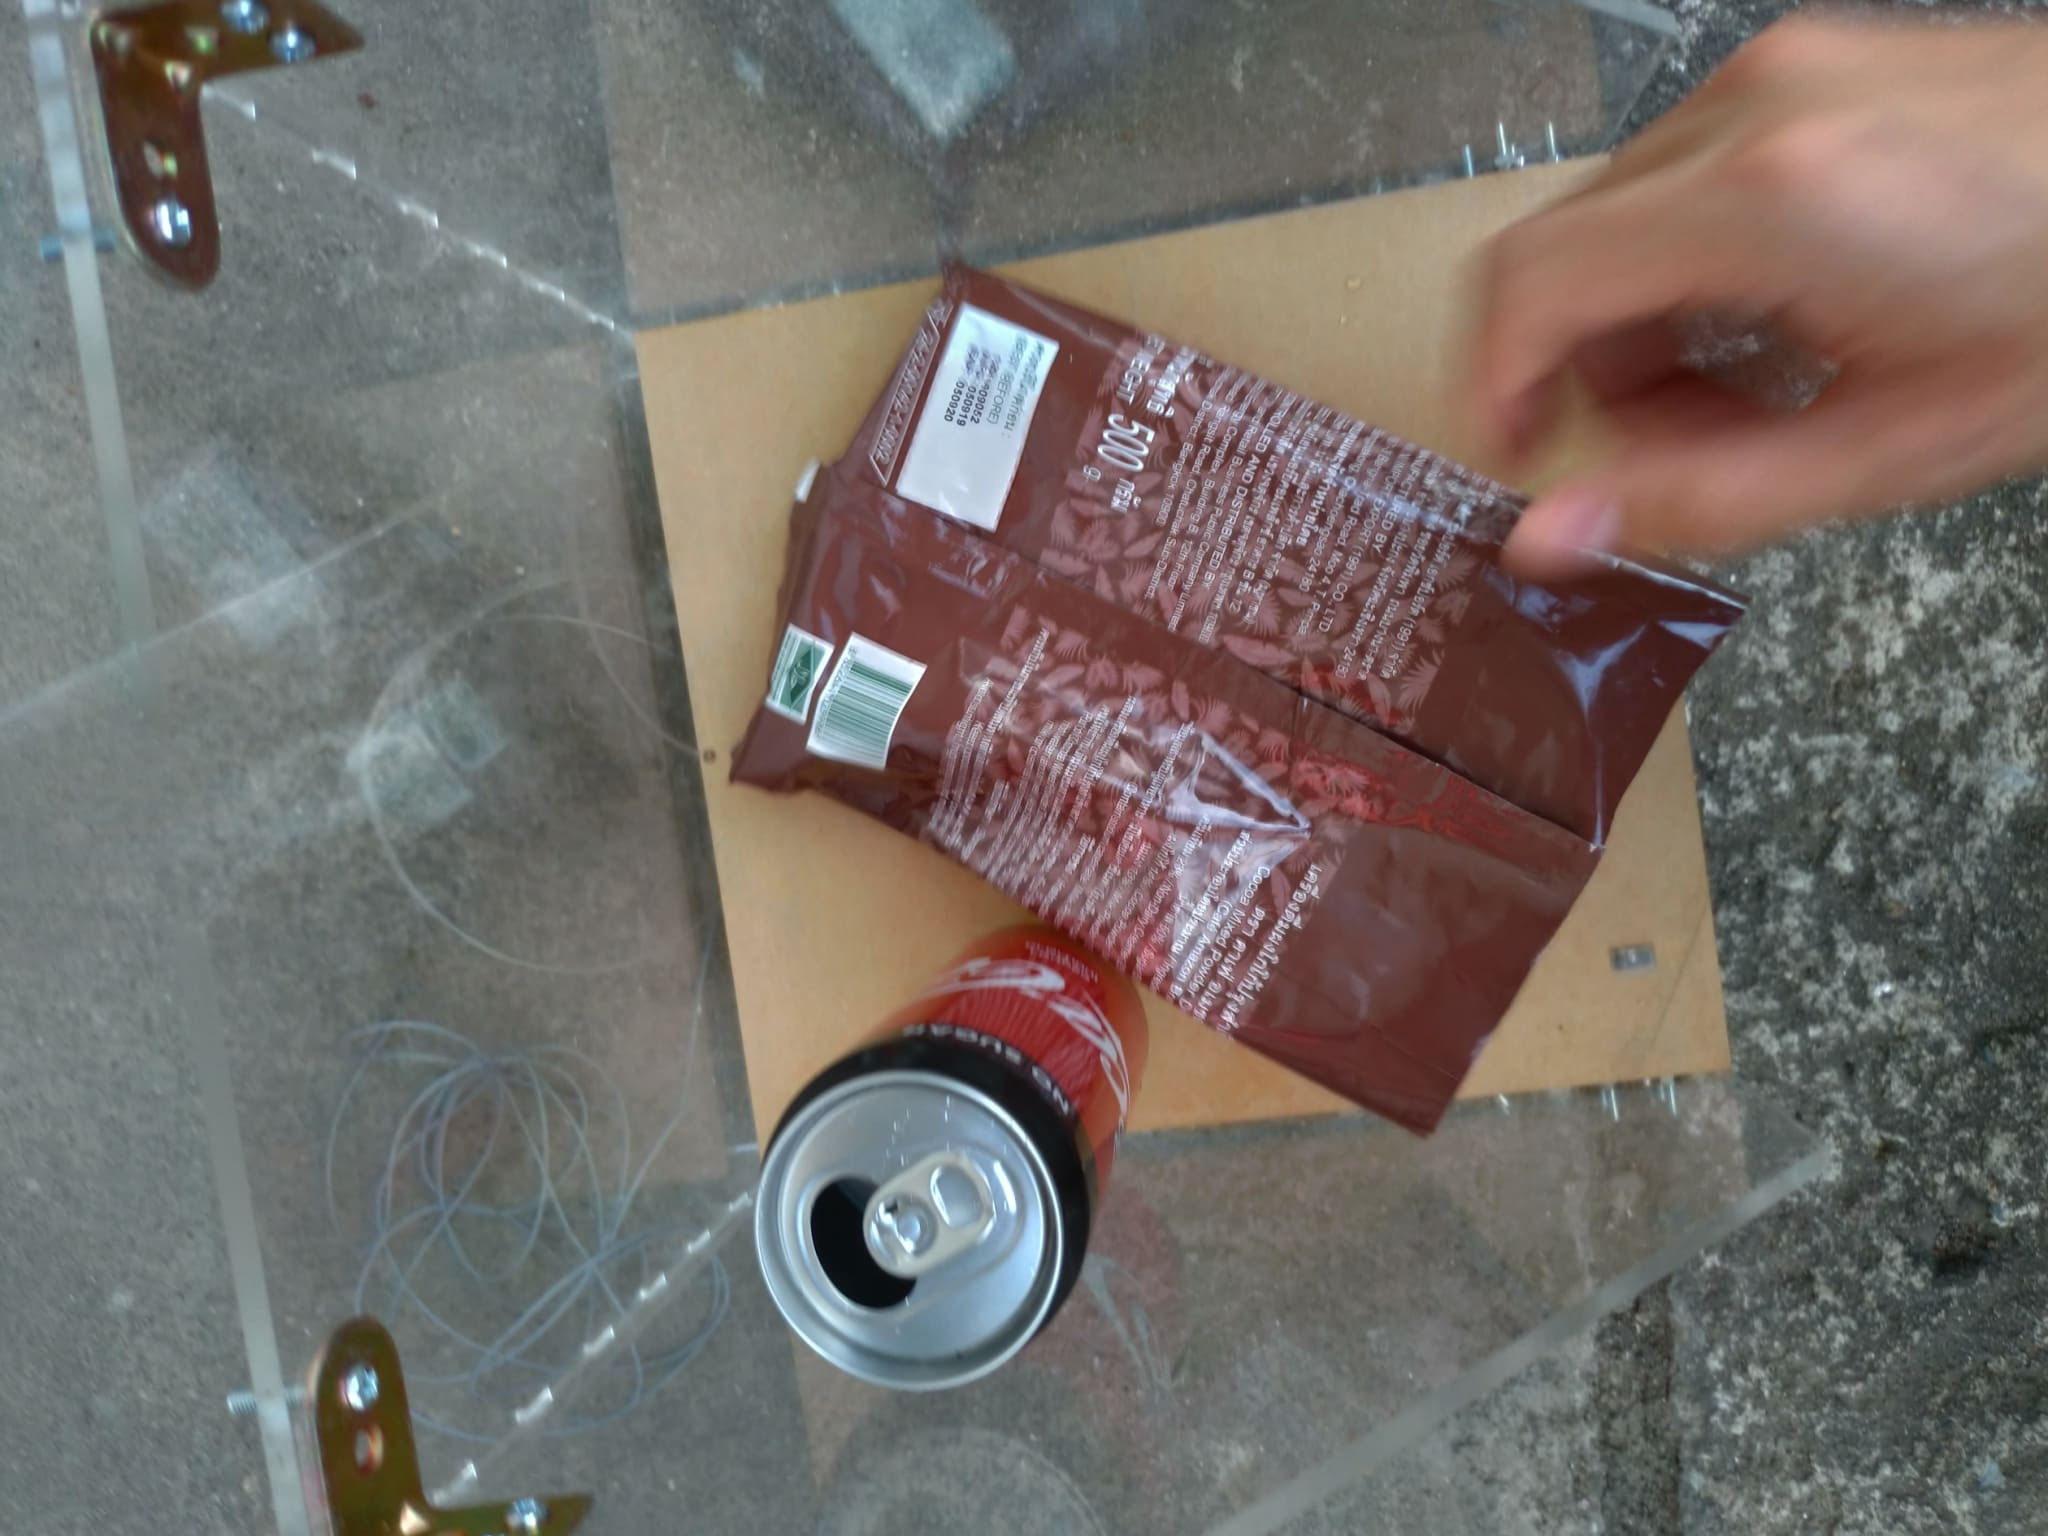AlCan: (751, 910, 1148, 1397)
Others: (732, 263, 1753, 1128)
